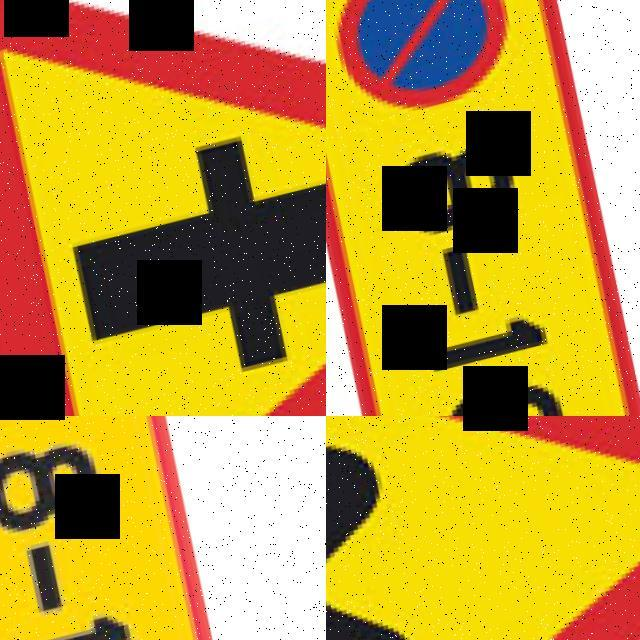166: (0, 0, 326, 416)
181: (326, 0, 640, 416), (0, 416, 257, 640)
Uneven road: (326, 416, 640, 640)
